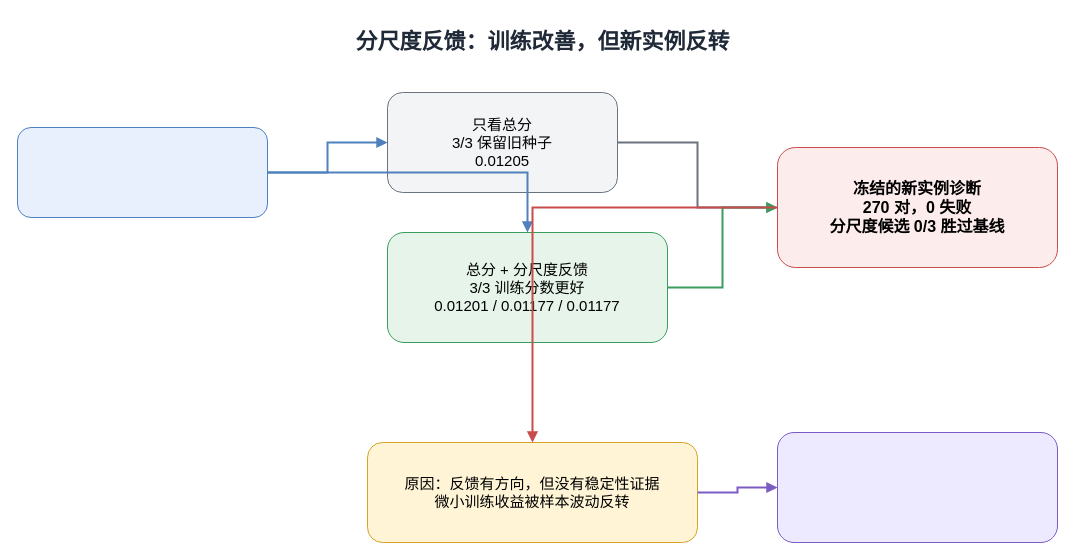
Some shapes in this 1075 by 560 pixel diagram are drawn without their labels. The shapes that lost their labels are listed below. From the top down, each one's centre as x and y in pixels, then its label:
point (142, 172): 共同起点与共同多尺度训练集 1k / 5k / 10k，总预算相同
point (917, 487): 自动决策 停止 scale_aware 放大 转向多折稳健反馈
